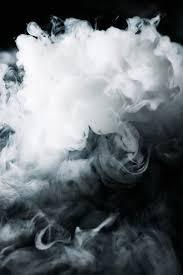smoke: (2, 18, 183, 274)
